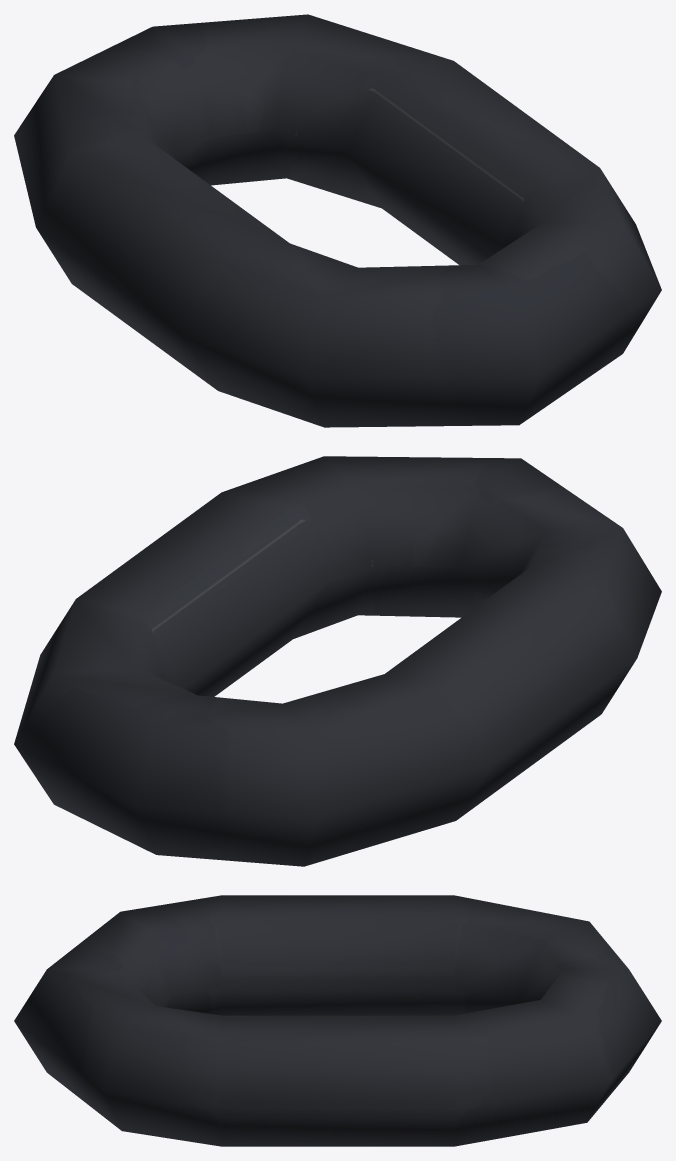
The model's file is SM_PROP_chain_dungeon_05.fbx.
3 views of the same model, one above another, from view 1: azimuth 30°, elevation 25°; view 2: azimuth 150°, elevation 25°; view 3: azimuth 270°, elevation 25° (orthographic). The views are drawn at different scales.
Parts seen in each view (by area): view 1: SM_PROP_chain_dungeon_05; view 2: SM_PROP_chain_dungeon_05; view 3: SM_PROP_chain_dungeon_05.
Part boxes in pixels (<box>): SM_PROP_chain_dungeon_05: <box>14,14,661,427</box>; SM_PROP_chain_dungeon_05: <box>14,456,661,866</box>; SM_PROP_chain_dungeon_05: <box>14,895,661,1146</box>.
Size of the model in its own units: 26.65 by 7.32 by 41.54.
